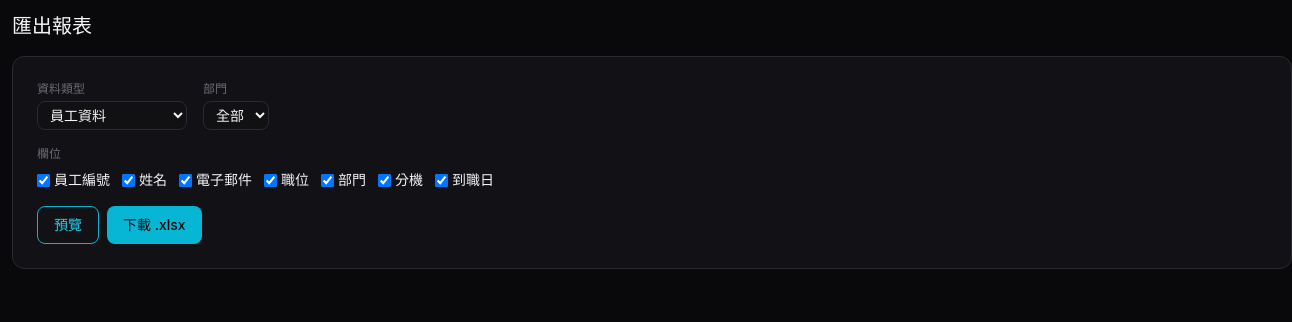
Test: 下載失敗時從 blob 錯誤回應解析出真正的錯誤訊息
The width and height of the screenshot is (1292, 322).
Expected: the checkbox labelled "員工編號" is shown, [37,174,50,186]
Click the button "下載 .xlsx": (154, 225) [107,206,202,244]
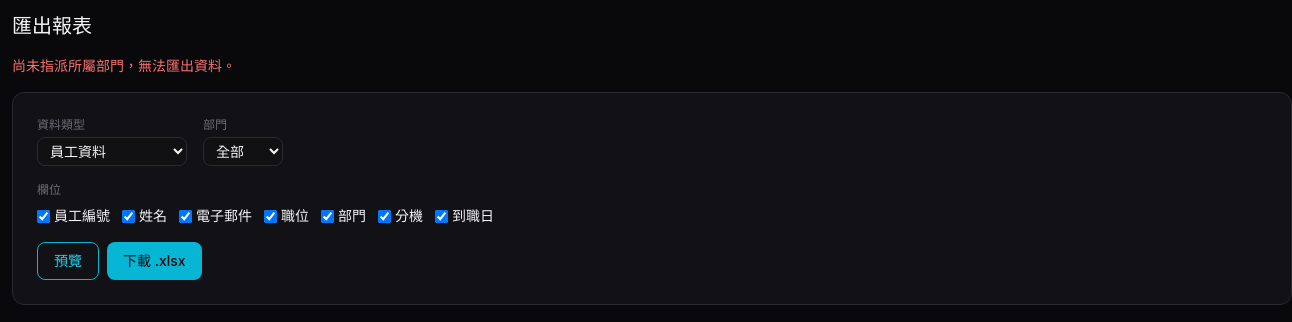
Expected: the text "尚未指派所屬部門，無法匯出資料。" is shown, [12,57,236,74]
